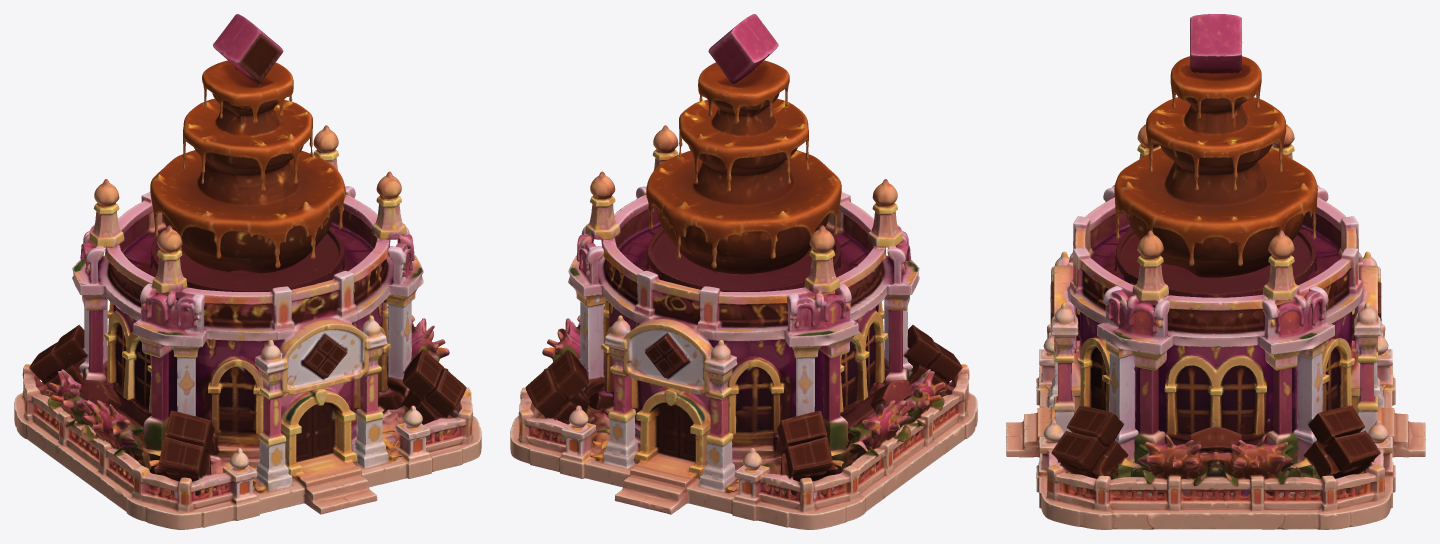
File: Meshy_AI_Chocolate_Drip_Palace_20261118_texture.fbx
3 views of the same model, side by side, from view 1: azimuth 30°, elevation 25°; view 2: azimuth 150°, elevation 25°; view 3: azimuth 270°, elevation 25° (orthographic). The views are drawn at different scales.
Visible parts, largest first — view 1: Mesh_0; view 2: Mesh_0; view 3: Mesh_0.
Part boxes in pixels (x1,y1,x2,y2): Mesh_0: (14,14,481,529); Mesh_0: (510,14,977,529); Mesh_0: (1006,14,1425,529).
Bounding box in the file's own units: 170 × 190 × 168.
Materials: 1 (1 with a texture image).
